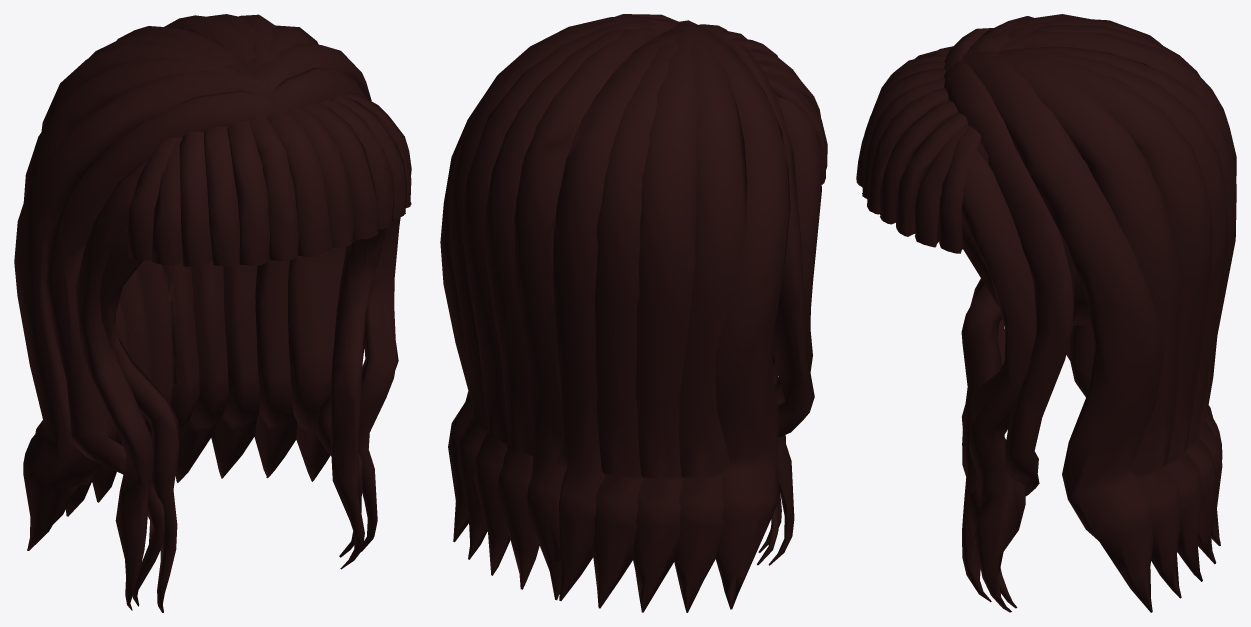
File: hair-1-d77963a0.glb
The picture shows the model from 3 angles, left to right: view 1: azimuth 30°, elevation 25°; view 2: azimuth 150°, elevation 25°; view 3: azimuth 270°, elevation 25°; orthographic projection. The views are drawn at different scales.
Parts seen in each view (by area): view 1: hair_1.001; view 2: hair_1.001; view 3: hair_1.001.
Part boxes in pixels (box(x1,y1,x2,y2)): hair_1.001: box(14, 14, 411, 612); hair_1.001: box(440, 14, 827, 612); hair_1.001: box(856, 14, 1236, 612).
Bounding box in the file's own units: 2.09 × 3.12 × 2.08.
